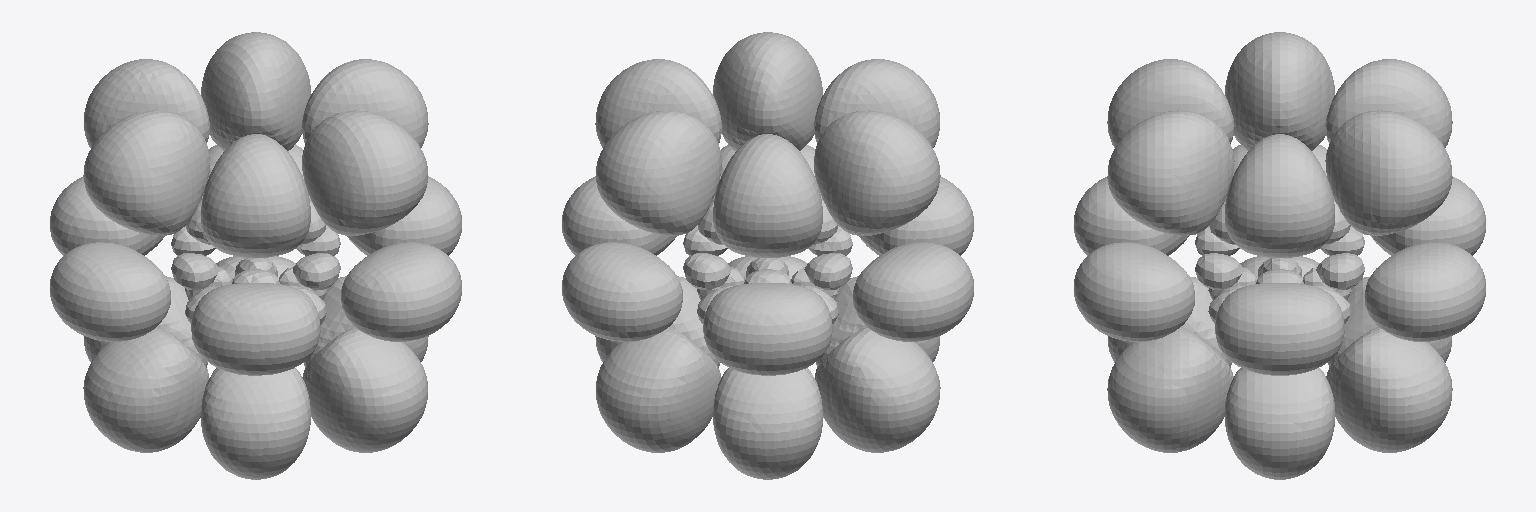
File: orb_n=7_ l=5 _m=3.obj
3 views of the same model, side by side, from view 1: azimuth 30°, elevation 25°; view 2: azimuth 150°, elevation 25°; view 3: azimuth 270°, elevation 25° (orthographic).
Visible parts, largest first — view 1: orb_n=7__l=5__m=3; view 2: orb_n=7__l=5__m=3; view 3: orb_n=7__l=5__m=3.
Boxes of the visible parts, x1=… form: orb_n=7__l=5__m=3: x1=50, y1=32, x2=461, y2=479; orb_n=7__l=5__m=3: x1=562, y1=32, x2=973, y2=479; orb_n=7__l=5__m=3: x1=1074, y1=32, x2=1485, y2=479.
Bounding box in the file's own units: 182 × 148 × 166.